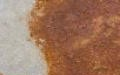Corrosion: (27, 1, 120, 75)
